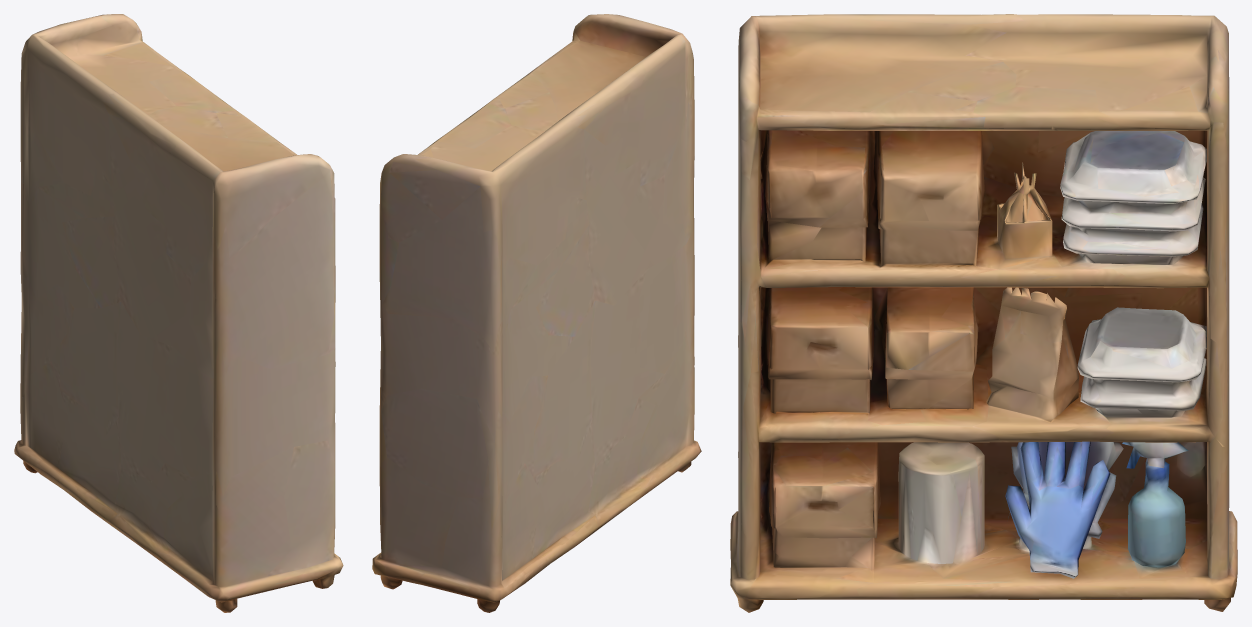
File: supply.glb
The picture shows the model from 3 angles, left to right: view 1: azimuth 30°, elevation 25°; view 2: azimuth 150°, elevation 25°; view 3: azimuth 270°, elevation 25°; orthographic projection. The views are drawn at different scales.
Parts seen in each view (by area): view 1: tripo_node_2245faa8-d9ab-4035-a76b-728c7e7a483e; view 2: tripo_node_2245faa8-d9ab-4035-a76b-728c7e7a483e; view 3: tripo_node_2245faa8-d9ab-4035-a76b-728c7e7a483e.
Boxes of the visible parts, bbox=[...] form: tripo_node_2245faa8-d9ab-4035-a76b-728c7e7a483e: bbox=[14, 14, 343, 612]; tripo_node_2245faa8-d9ab-4035-a76b-728c7e7a483e: bbox=[372, 14, 701, 612]; tripo_node_2245faa8-d9ab-4035-a76b-728c7e7a483e: bbox=[730, 14, 1237, 612].
Bounding box in the file's own units: 0.3157 × 1 × 0.855.
1 material, 1 textured.
